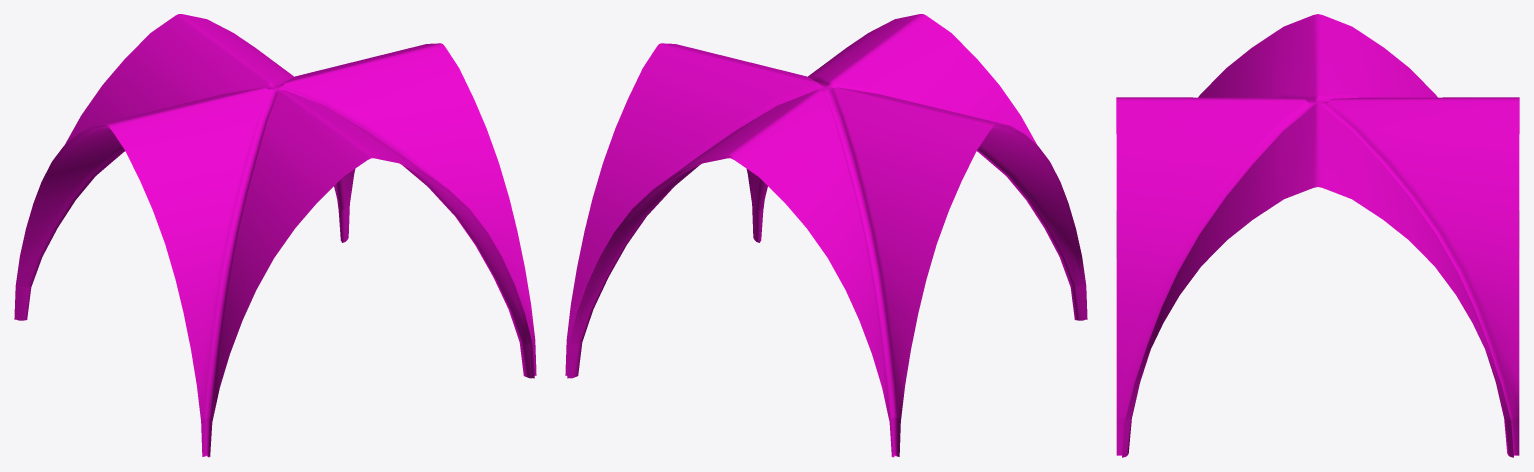
Rendered from Arch_Roof_01.fbx.
The picture shows the model from 3 angles, left to right: view 1: azimuth 30°, elevation 25°; view 2: azimuth 150°, elevation 25°; view 3: azimuth 270°, elevation 25°; orthographic projection. The views are drawn at different scales.
Parts seen in each view (by area): view 1: Arch_Roof_01; view 2: Arch_Roof_01; view 3: Arch_Roof_01.
Part boxes in pixels (left/top/right/bottom): Arch_Roof_01: left=14, top=14, right=536, bottom=457; Arch_Roof_01: left=565, top=14, right=1087, bottom=457; Arch_Roof_01: left=1116, top=14, right=1519, bottom=457.
Size of the model in its own units: 550 by 413 by 550.
